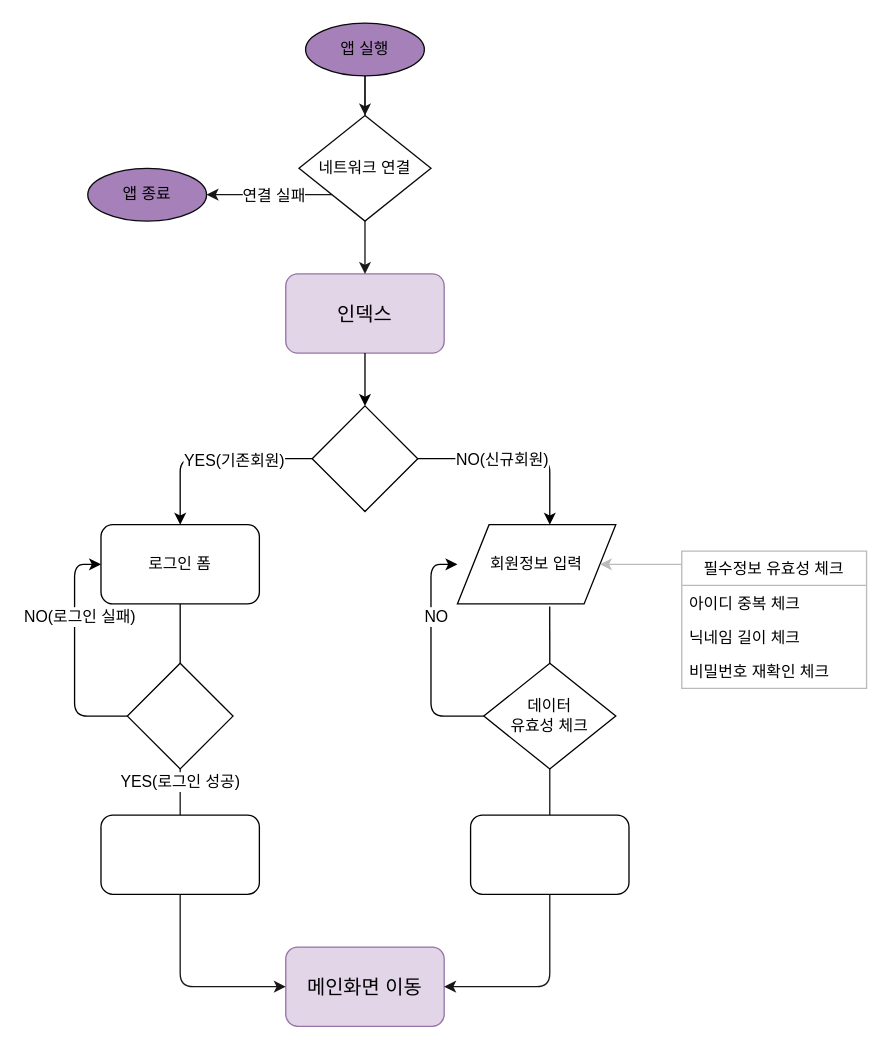
The diagram is 890 pixels wide and 1049 high, and some of its shapes have lost their labels. Here are the shapes that lost their labels. From the top down, the centre of each, then its label:
At [364,458]: "회원 유무".
At [179,715]: "ID/PW 체크".
At [179,854]: "로그인 처리".
At [549,854]: "회원가입 성공 및 자동 로그인".
